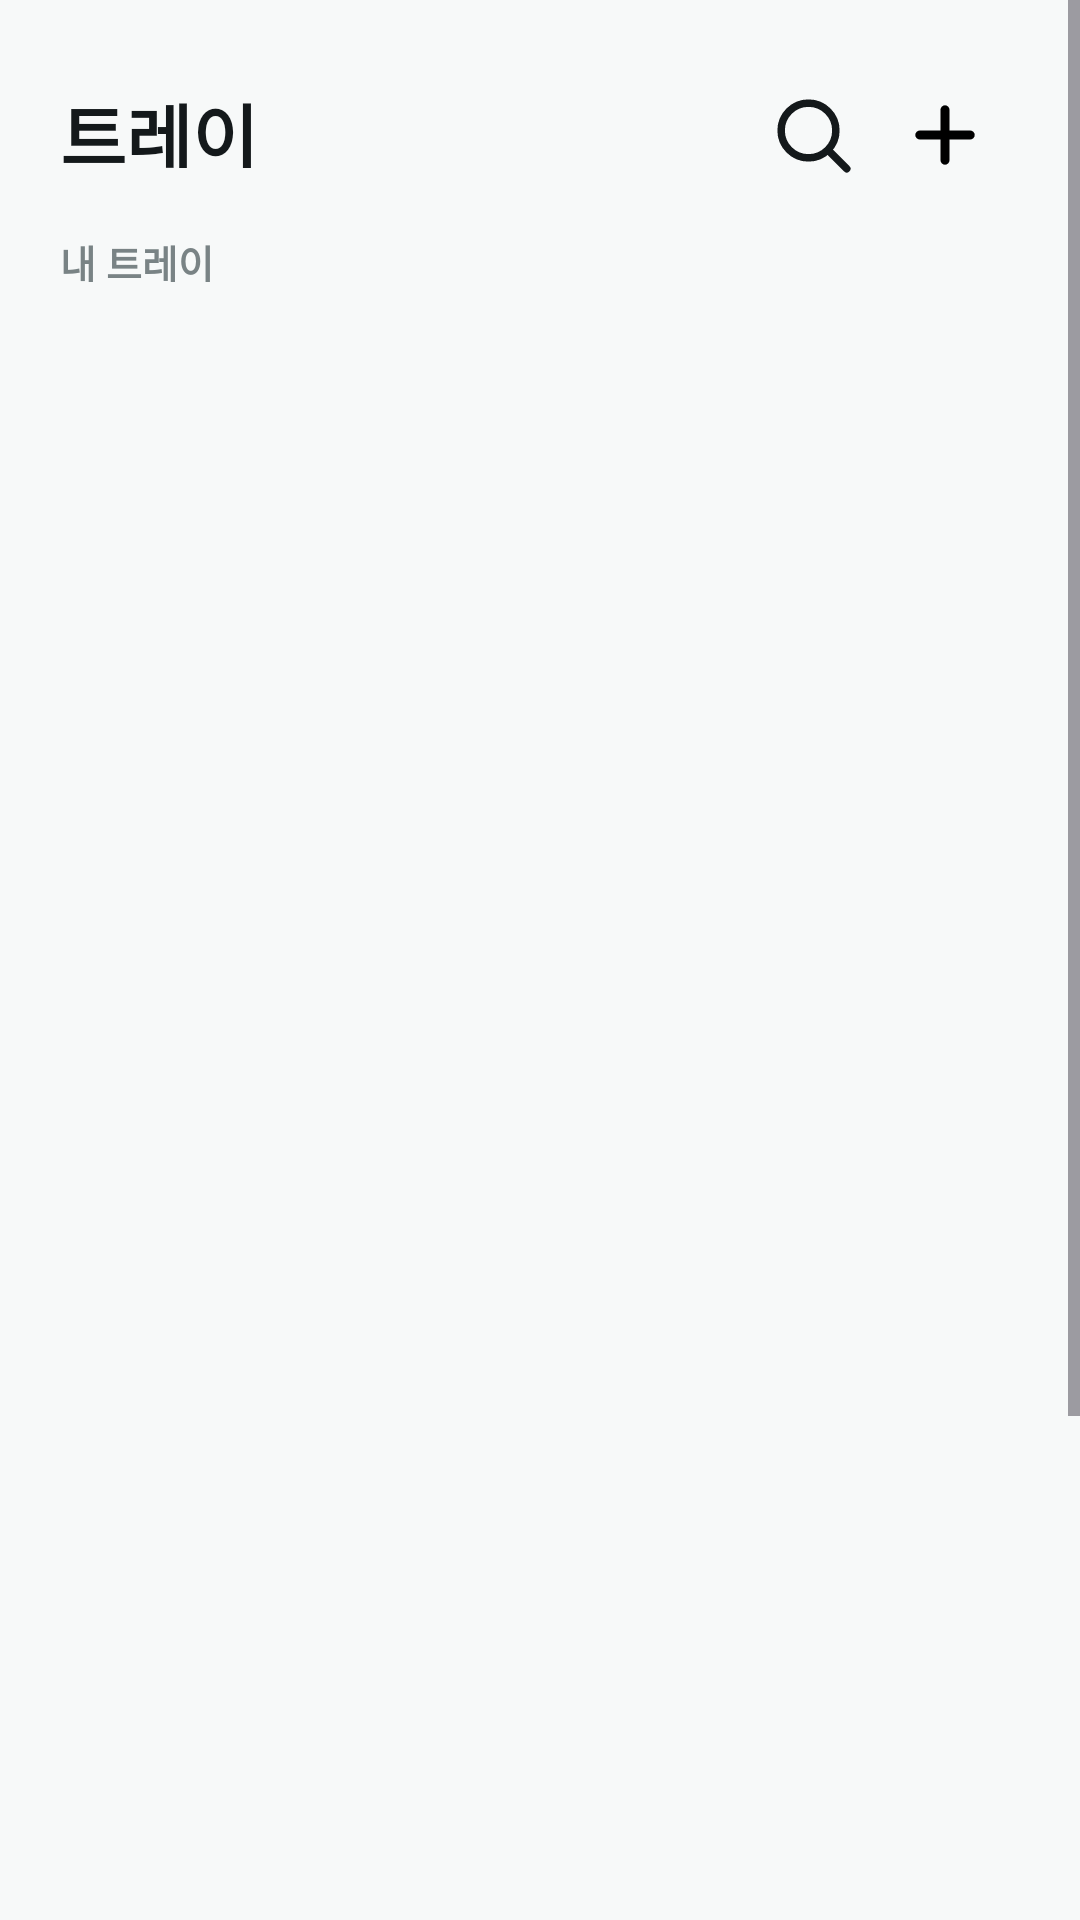

Screen size 1080px x 1920px. Icon name, then its box in pixels as (x1, y1, x2, y2):
plus: (915, 105, 975, 165)
search: (777, 99, 851, 173)
